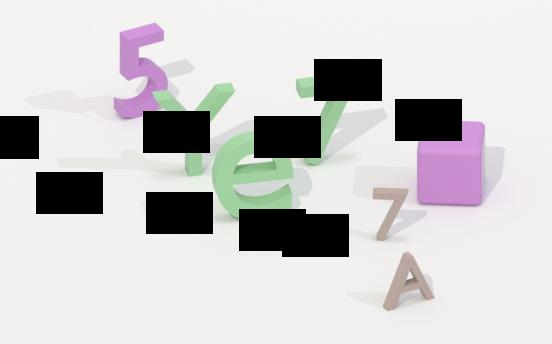5: (112, 20, 172, 123)
7: (292, 65, 361, 169), (368, 182, 410, 242)
A-hoa: (380, 247, 437, 316)
Y-hoa: (151, 81, 237, 181)
e: (210, 126, 295, 222)
hop: (414, 116, 491, 210)
